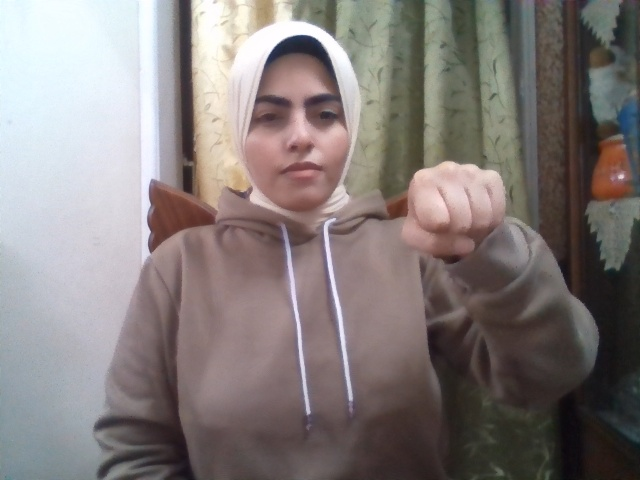yes: (402, 161, 507, 255)
